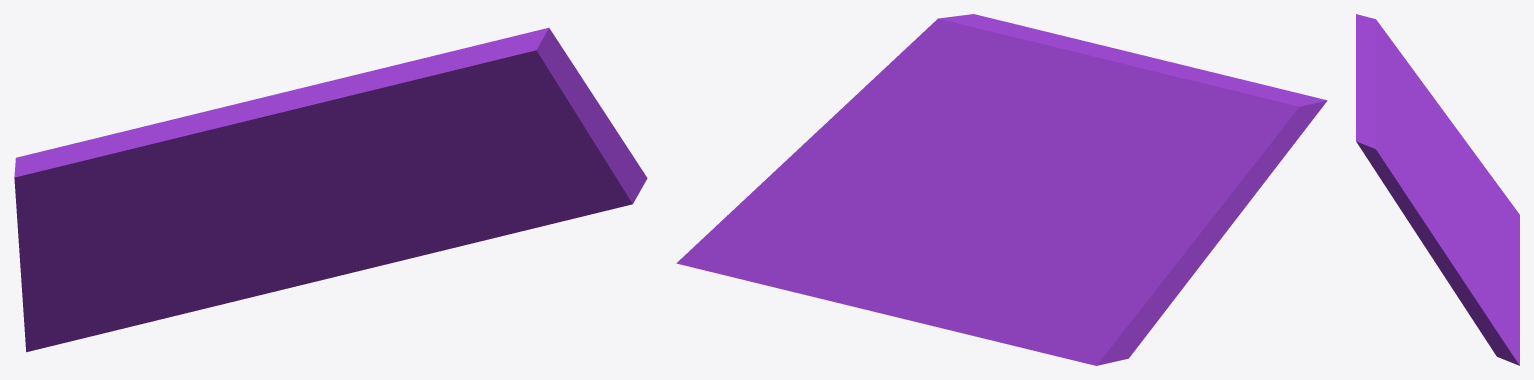
File: Window_127_chunks.fbx
3 views of the same model, side by side, from view 1: azimuth 30°, elevation 25°; view 2: azimuth 150°, elevation 25°; view 3: azimuth 270°, elevation 25° (orthographic). The views are drawn at different scales.
Visible parts, largest first — view 1: Window_127_2, Window_127_3, Window_127_0, Window_127_1; view 2: Window_127_2, Window_127_3, Window_127_1, Window_127_0; view 3: Window_127_2, Window_127_3, Window_127_0, Window_127_1.
Part boxes in pixels (left/top/right/bottom): Window_127_2: left=314, top=49, right=647, bottom=281; Window_127_3: left=14, top=98, right=287, bottom=296; Window_127_0: left=227, top=27, right=562, bottom=199; Window_127_1: left=22, top=198, right=324, bottom=352; Window_127_2: left=676, top=52, right=1013, bottom=325; Window_127_3: left=1013, top=65, right=1327, bottom=289; Window_127_1: left=930, top=199, right=1191, bottom=365; Window_127_0: left=902, top=14, right=1182, bottom=168; Window_127_2: left=1392, top=174, right=1519, bottom=365; Window_127_3: left=1356, top=14, right=1477, bottom=186; Window_127_0: left=1356, top=66, right=1436, bottom=196; Window_127_1: left=1452, top=158, right=1519, bottom=273.
Bounding box in the file's own units: 2021 × 763 × 720.
